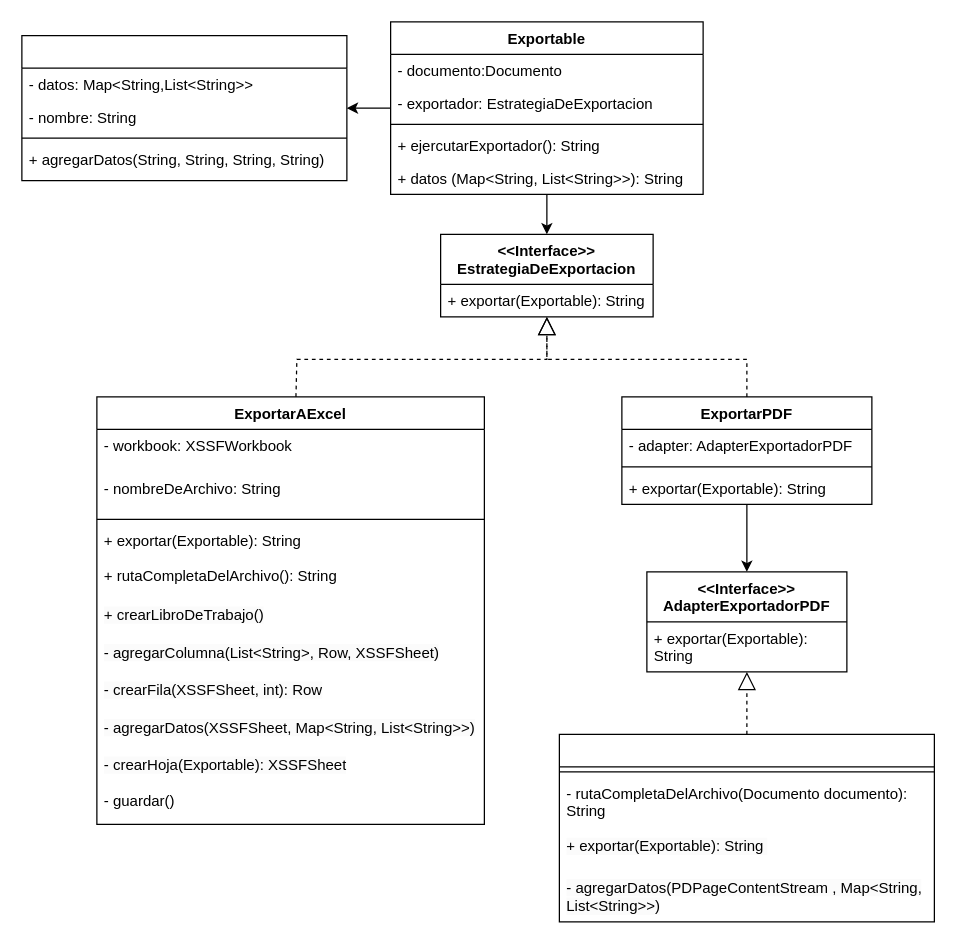
Some shapes in this 956 by 944 pixel diagram are drawn without their labels. The shapes that lost their labels are listed below. From the top down, each one's box as (x1, y1, x2, y2) in pixels, then its label:
(21, 34, 347, 181): Documento
(558, 733, 934, 922): AdapterApachePDFBox
